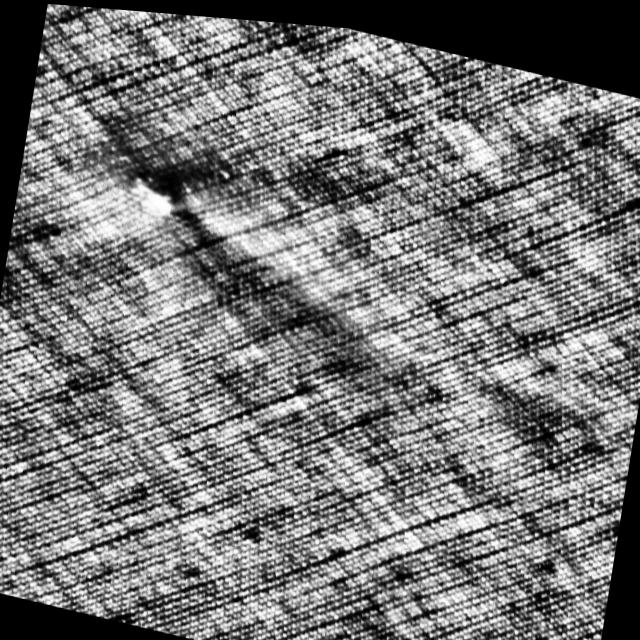Hole: (125, 166, 189, 219)
